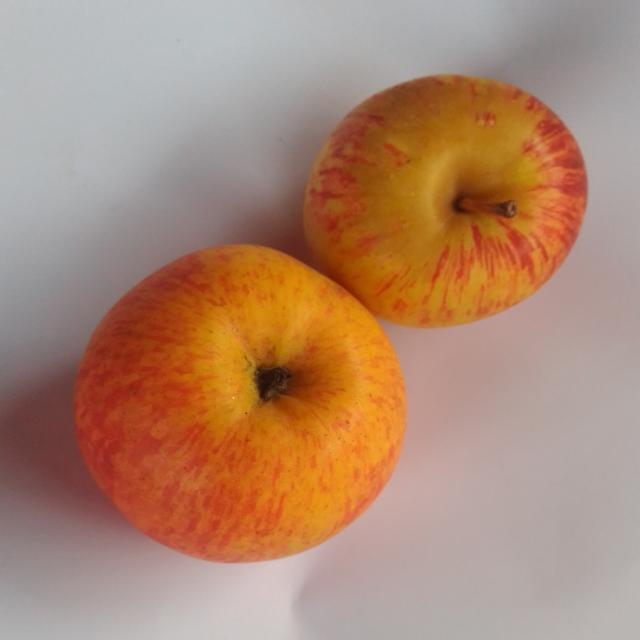Fresh Apple: (70, 242, 412, 566), (297, 68, 590, 322)
